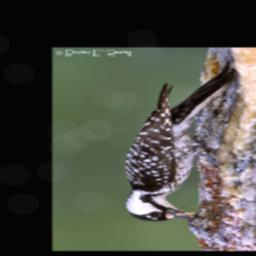Woodpecker: (122, 63, 235, 221)
